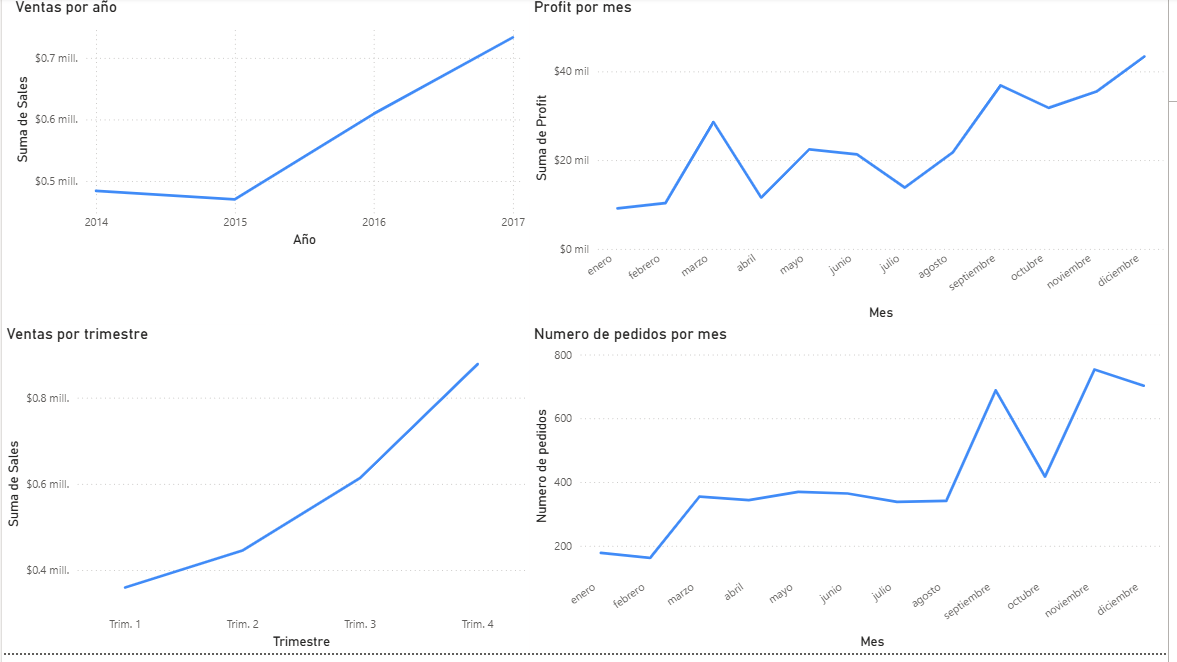

Layout of this report page (visuals, bound fields, positions):
{"tool":"powerbi","page":{"name":"Página 5 - Tendencias","canvas":[1280,720],"ordinal":4},"visuals":[{"type":"lineChart","title":"Ventas por año","fields":{"Y":["Sum(Sample - Superstore.Sales)"],"Category":["Sample - Superstore.Order Date.Variación.Jerarquía de fechas.Año"]},"box":[9.6,0,569.5,279.9],"z":0},{"type":"lineChart","title":"Ventas por trimestre","fields":{"Y":["Sum(Sample - Superstore.Sales)"],"Category":["Sample - Superstore.Order Date.Variación.Jerarquía de fechas.Trimestre"]},"box":[0,359.5,579.1,360.9],"z":1},{"type":"lineChart","title":"Profit por mes","fields":{"Category":["Sample - Superstore.Order Date.Variación.Jerarquía de fechas.Mes"],"Y":["Sum(Sample - Superstore.Profit)"]},"box":[579.1,0,701.2,359.5],"z":2},{"type":"lineChart","title":"Numero de pedidos por mes","fields":{"Y":["Sample - Superstore.Numero de pedidos"],"Category":["Sample - Superstore.Order Date.Variación.Jerarquía de fechas.Mes"]},"box":[579.1,359.5,701.2,360.9],"z":3}]}

Visuals, with their boxes in screenshot pixels (x1, y1, x2, y2), scaled from the page's 1280x720 canvas onto the 1177x662 screenshot:
"Ventas por año" lineChart: locate(9, 0, 533, 257)
"Ventas por trimestre" lineChart: locate(0, 331, 533, 661)
"Profit por mes" lineChart: locate(533, 0, 1176, 331)
"Numero de pedidos por mes" lineChart: locate(533, 331, 1176, 661)
